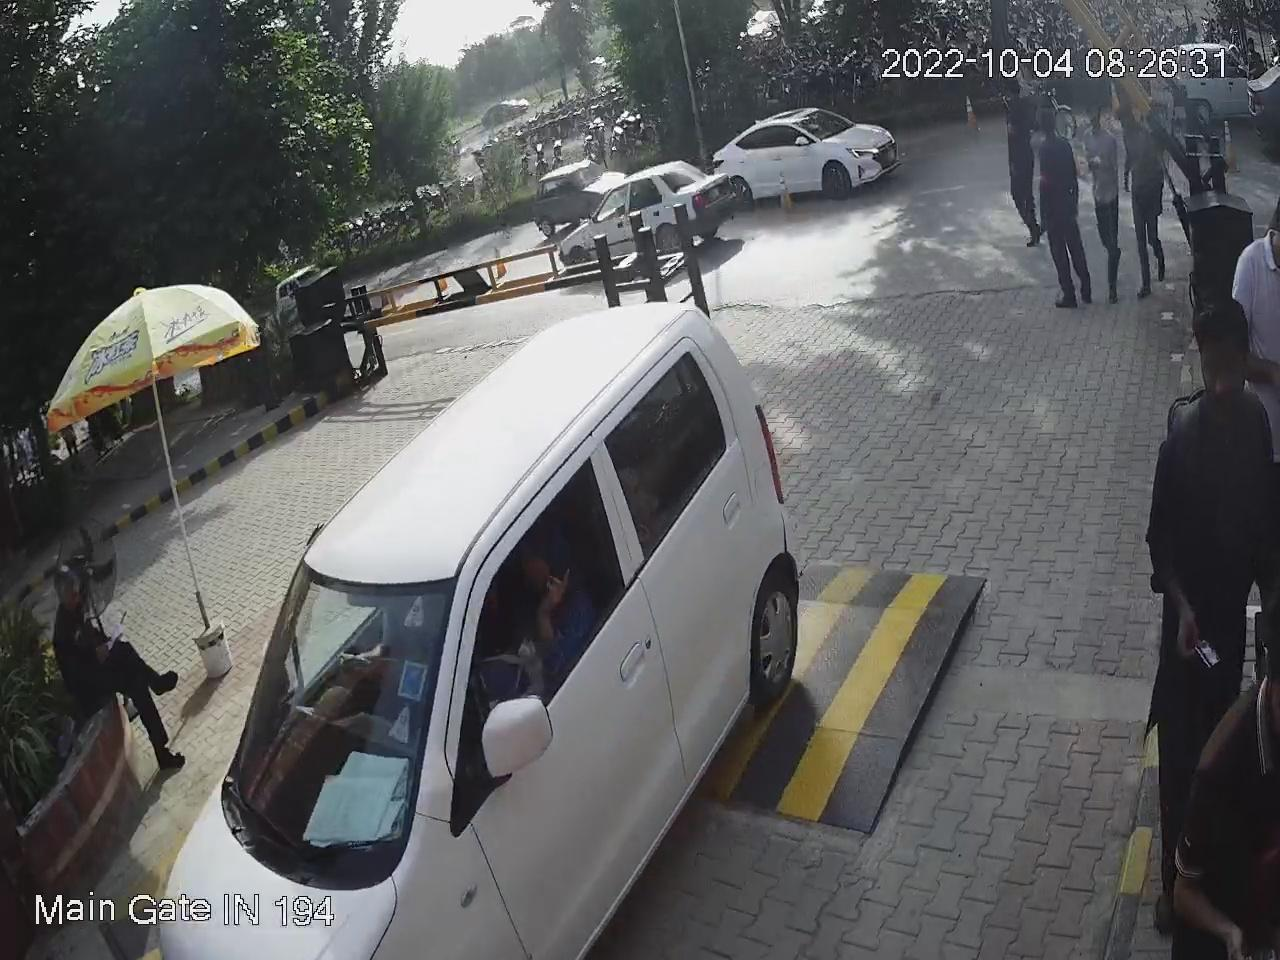windshield: (223, 563, 463, 875)
